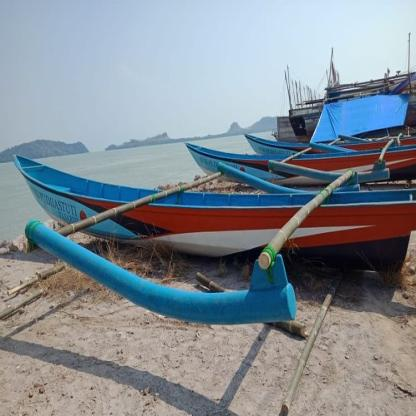fishing boat: (10, 184, 393, 266), (178, 156, 416, 178)
